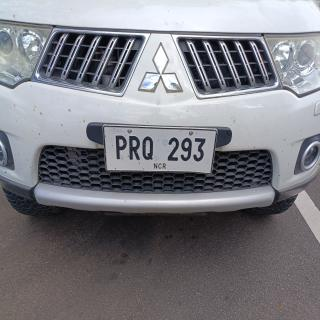license: (104, 125, 218, 174)
